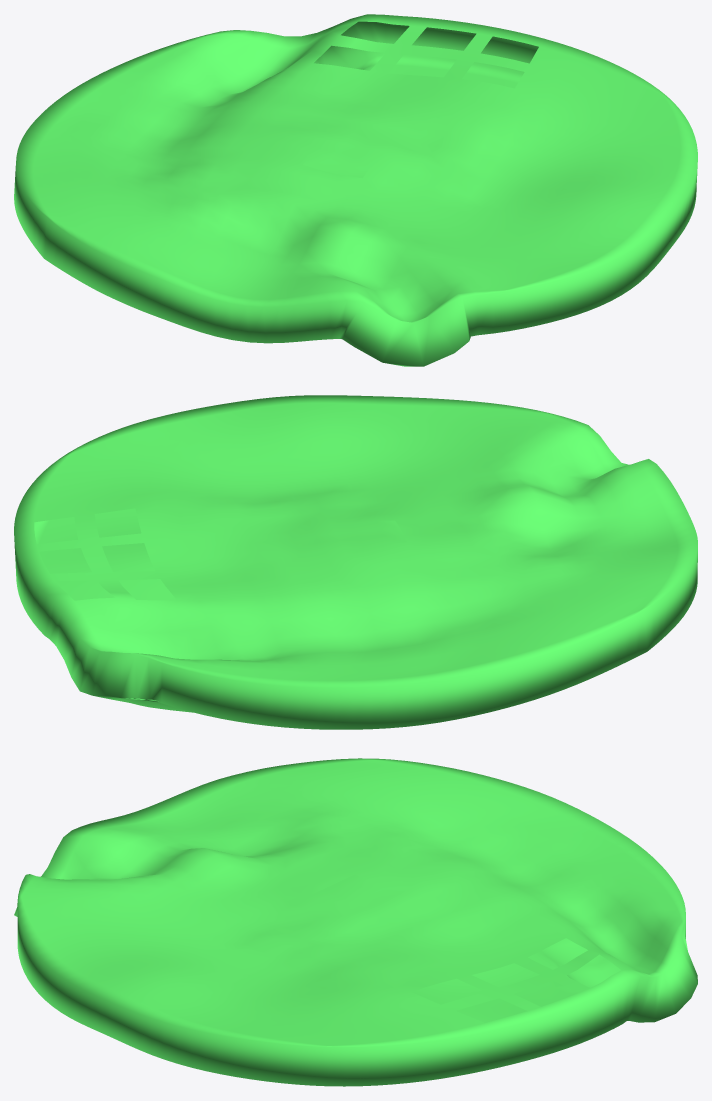
The model's file is Monde_plaine.fbx.
The picture shows the model from 3 angles, top to bottom: view 1: azimuth 30°, elevation 25°; view 2: azimuth 150°, elevation 25°; view 3: azimuth 270°, elevation 25°; orthographic projection. The views are drawn at different scales.
Visible parts, largest first — view 1: Monde_plaine; view 2: Monde_plaine; view 3: Monde_plaine.
Boxes of the visible parts, x1,y1,x2,y2 form: Monde_plaine: (14,14,697,366); Monde_plaine: (14,395,697,729); Monde_plaine: (14,758,697,1086).
Bounding box in the file's own units: 117891 × 16277 × 120112.
